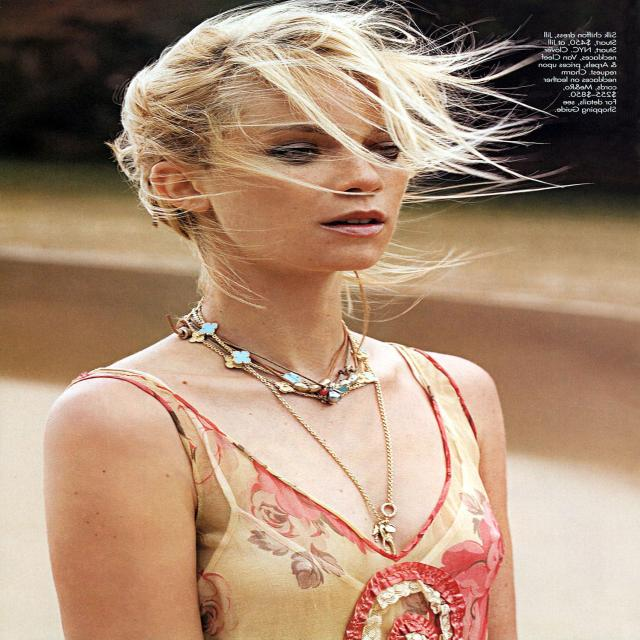no-earmuff: (134, 151, 237, 237)
